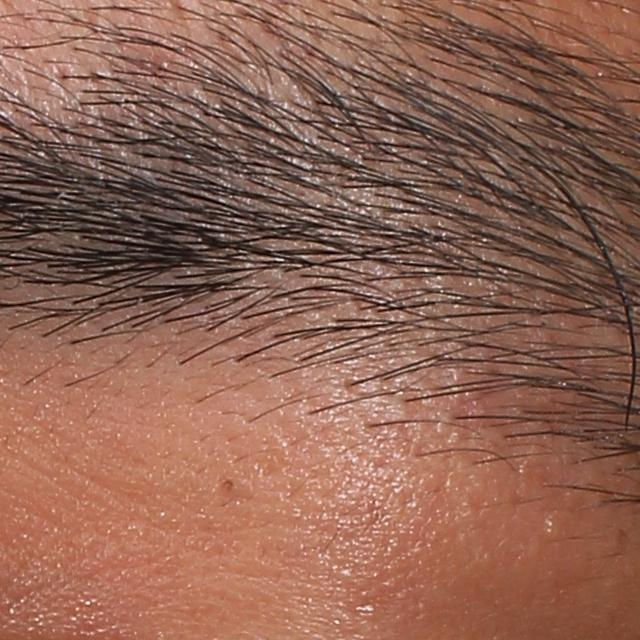nevus: (218, 475, 239, 500)
